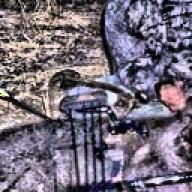boar: (0, 91, 192, 192)
